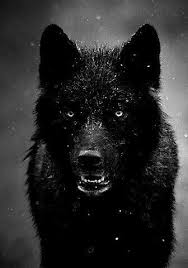Lobo: (17, 18, 183, 257)
